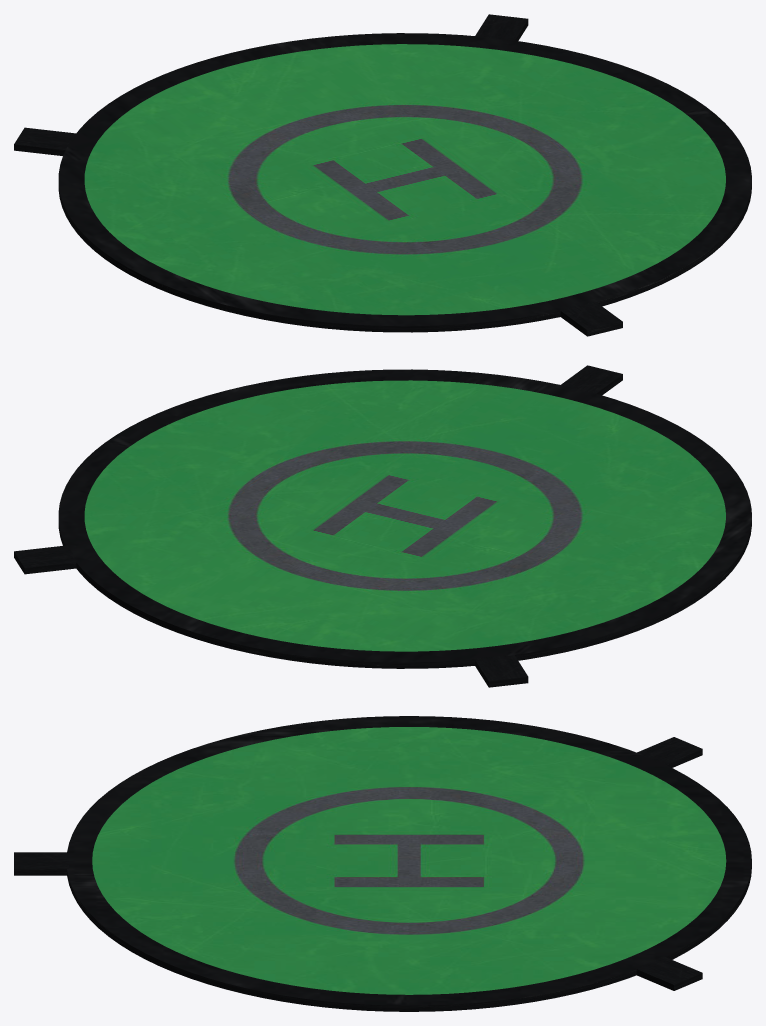
Rendered from e_color_DronePad_green.fbx.
3 views of the same model, one above another, from view 1: azimuth 30°, elevation 25°; view 2: azimuth 150°, elevation 25°; view 3: azimuth 270°, elevation 25° (orthographic).
Parts seen in each view (by area): view 1: DronePad_blue; view 2: DronePad_blue; view 3: DronePad_blue.
Boxes of the visible parts, box(x1,y1,x2,y2) form: DronePad_blue: box(14, 14, 751, 336); DronePad_blue: box(14, 365, 751, 687); DronePad_blue: box(14, 716, 751, 1011).
Size of the model in its own units: 200 by 2 by 215.
